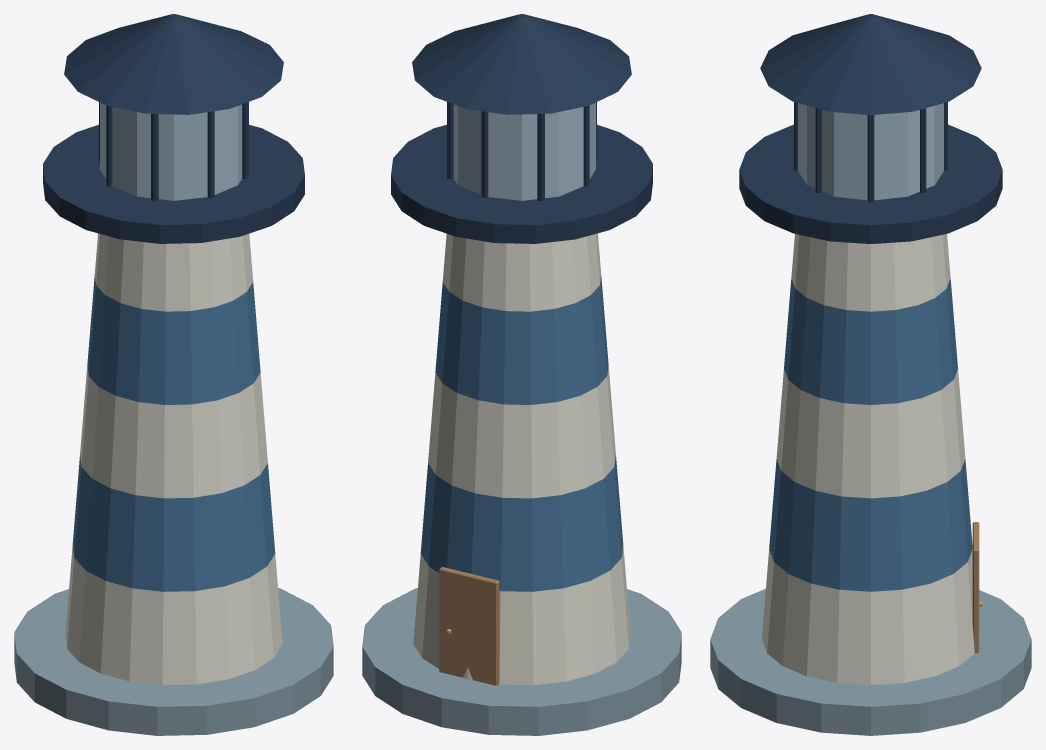
File: lighthouse.glb
3 views of the same model, side by side, from view 1: azimuth 30°, elevation 25°; view 2: azimuth 150°, elevation 25°; view 3: azimuth 270°, elevation 25° (orthographic).
Parts seen in each view (by area): view 1: tower_band (×5), foundation, gallery, lantern_roof, lantern_glass, lantern_frame (×4); view 2: tower_band (×5), foundation, gallery, lantern_roof, lantern_glass, door, lantern_frame (×4); view 3: tower_band (×5), foundation, lantern_roof, gallery, lantern_glass, lantern_frame (×3), door.
Boxes of the visible parts, x1,y1,x2,y2 form: tower_band (×5): (65, 233, 282, 685); foundation: (14, 588, 333, 735); gallery: (43, 124, 304, 243); lantern_roof: (64, 14, 283, 114); lantern_glass: (100, 102, 242, 200); lantern_frame (×4): (106, 102, 248, 201); tower_band (×5): (413, 233, 630, 685); foundation: (362, 588, 681, 735); gallery: (391, 124, 652, 243); lantern_roof: (412, 14, 631, 114); lantern_glass: (453, 102, 595, 200); door: (439, 567, 499, 685); lantern_frame (×4): (447, 102, 589, 201); tower_band (×5): (761, 234, 980, 684); foundation: (710, 588, 1031, 735); lantern_roof: (760, 14, 981, 115); gallery: (739, 124, 1002, 243); lantern_glass: (798, 103, 943, 200); lantern_frame (×3): (815, 108, 926, 202); door: (972, 522, 979, 653).
Bounding box in the file's own units: 2 × 4.48 × 2.
